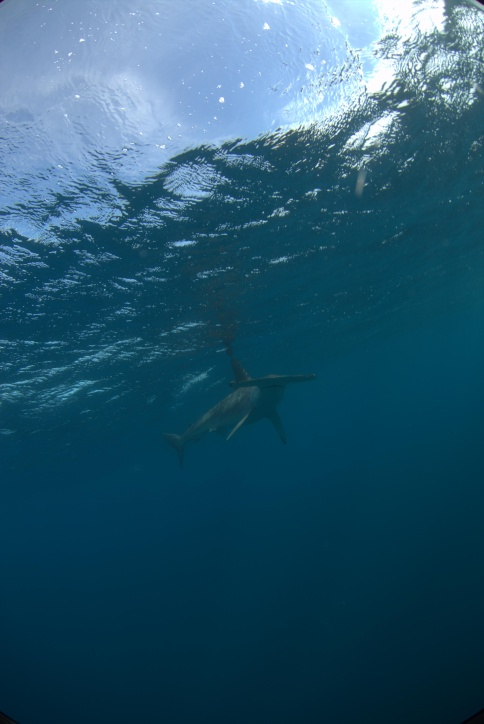Hammer: (139, 322, 328, 488)
